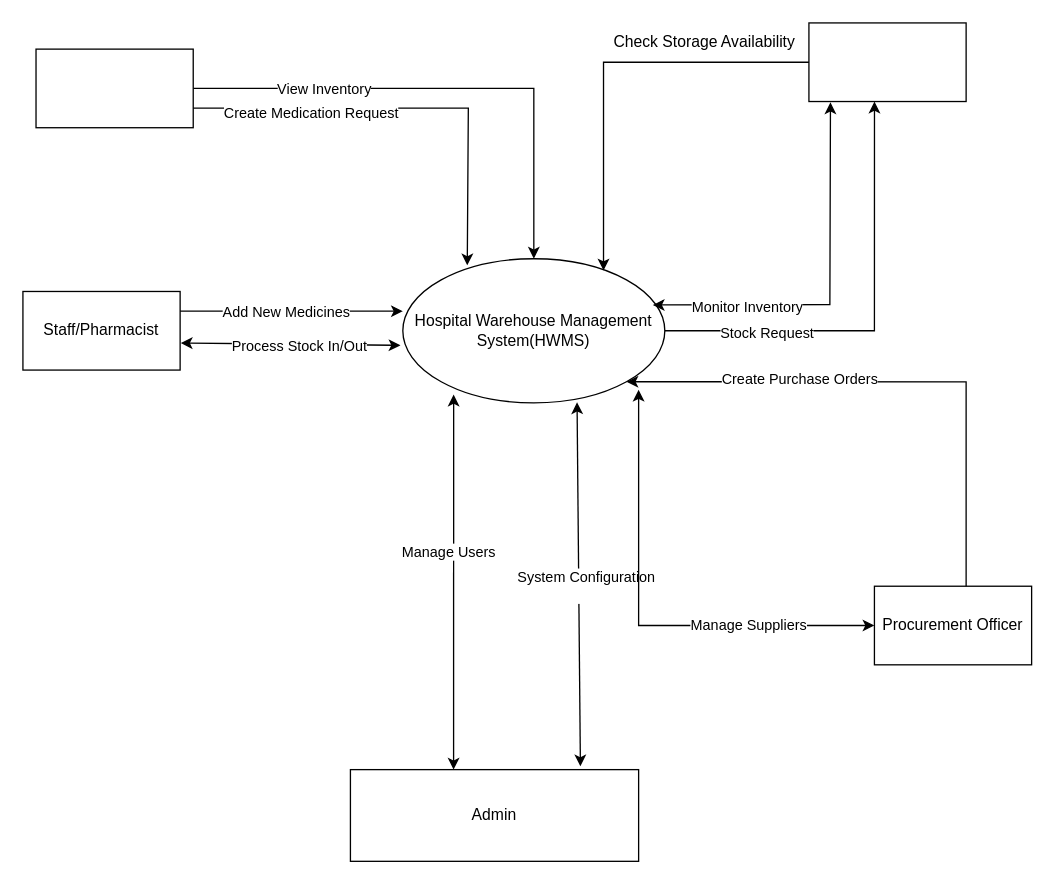
This 1055x884 diagram has some shape labels left out. The shapes that lost their labels are listed below. From the top down, each one's centre as x and y in pixels, then its label:
At point (887, 62): "Warehouse Manager".
At point (114, 88): "Doctor".
